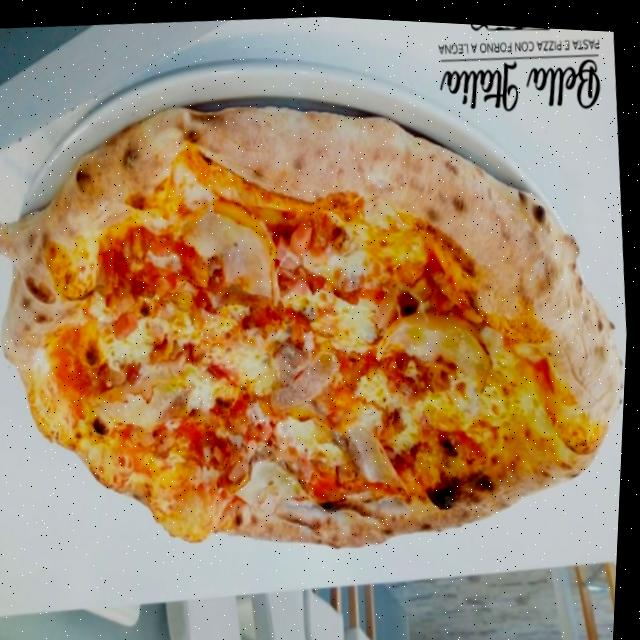pizza: (0, 61, 638, 583)
